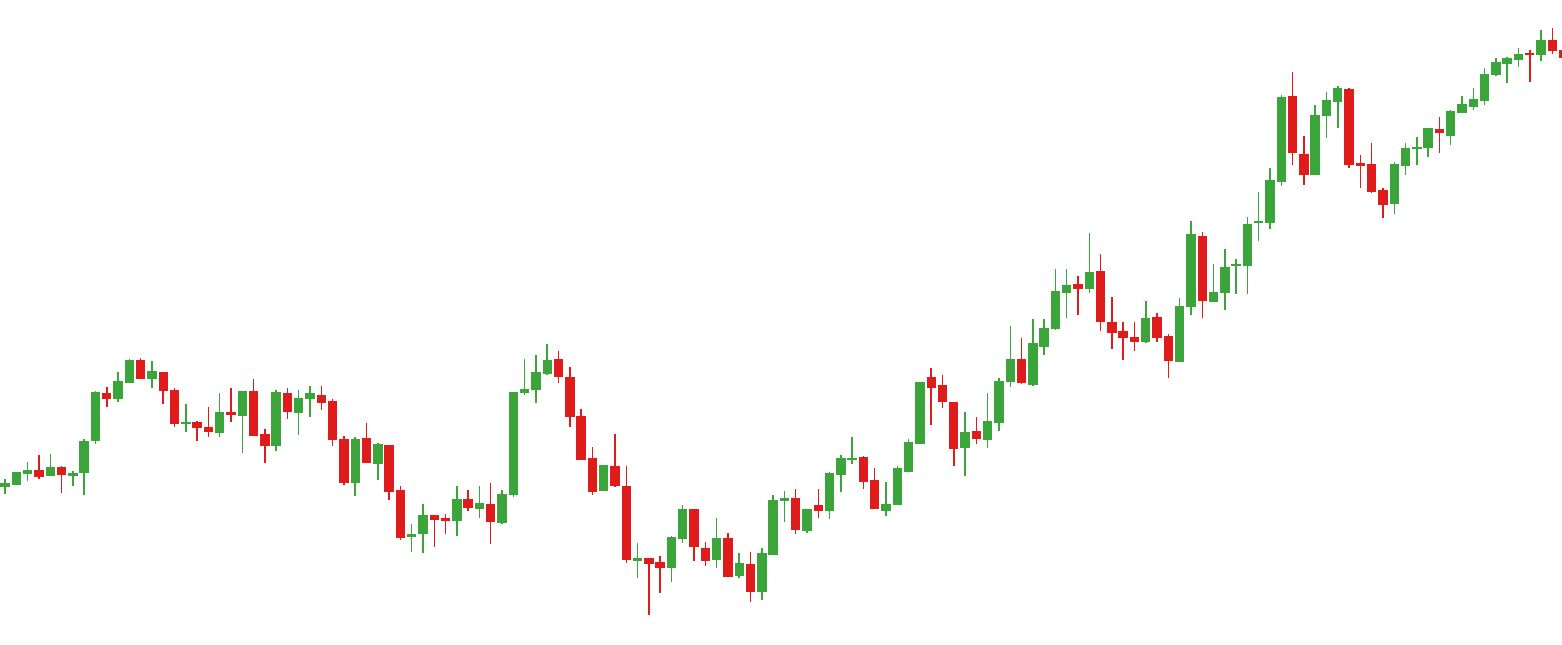buy: (1297, 121, 1402, 223)
sell: (305, 341, 577, 465)
